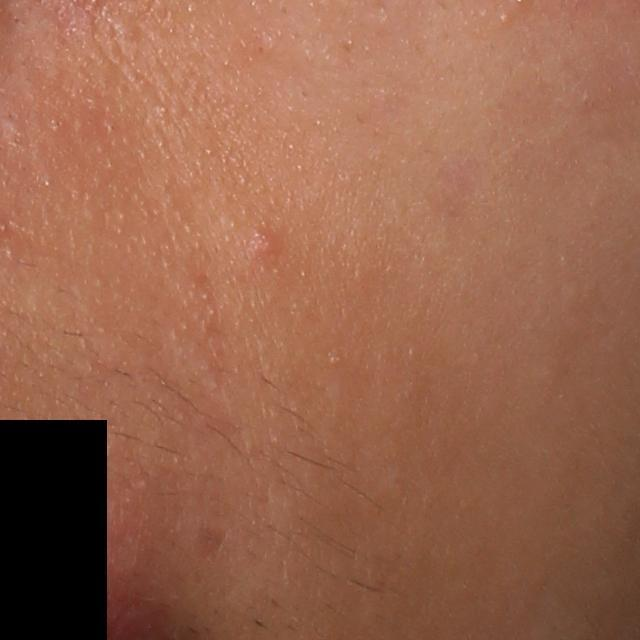comedo: (495, 10, 513, 28)
papule: (245, 225, 283, 262)
